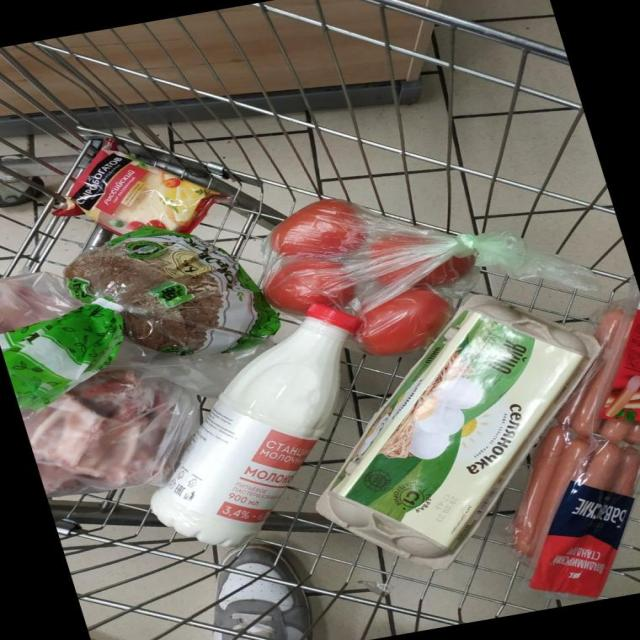cheese: (56, 108, 242, 341)
egg: (237, 141, 640, 461)
milk: (183, 159, 500, 461)
tomato: (196, 182, 630, 518), (243, 115, 640, 399), (183, 137, 569, 420), (206, 123, 612, 360), (153, 152, 470, 455), (131, 122, 413, 377)
